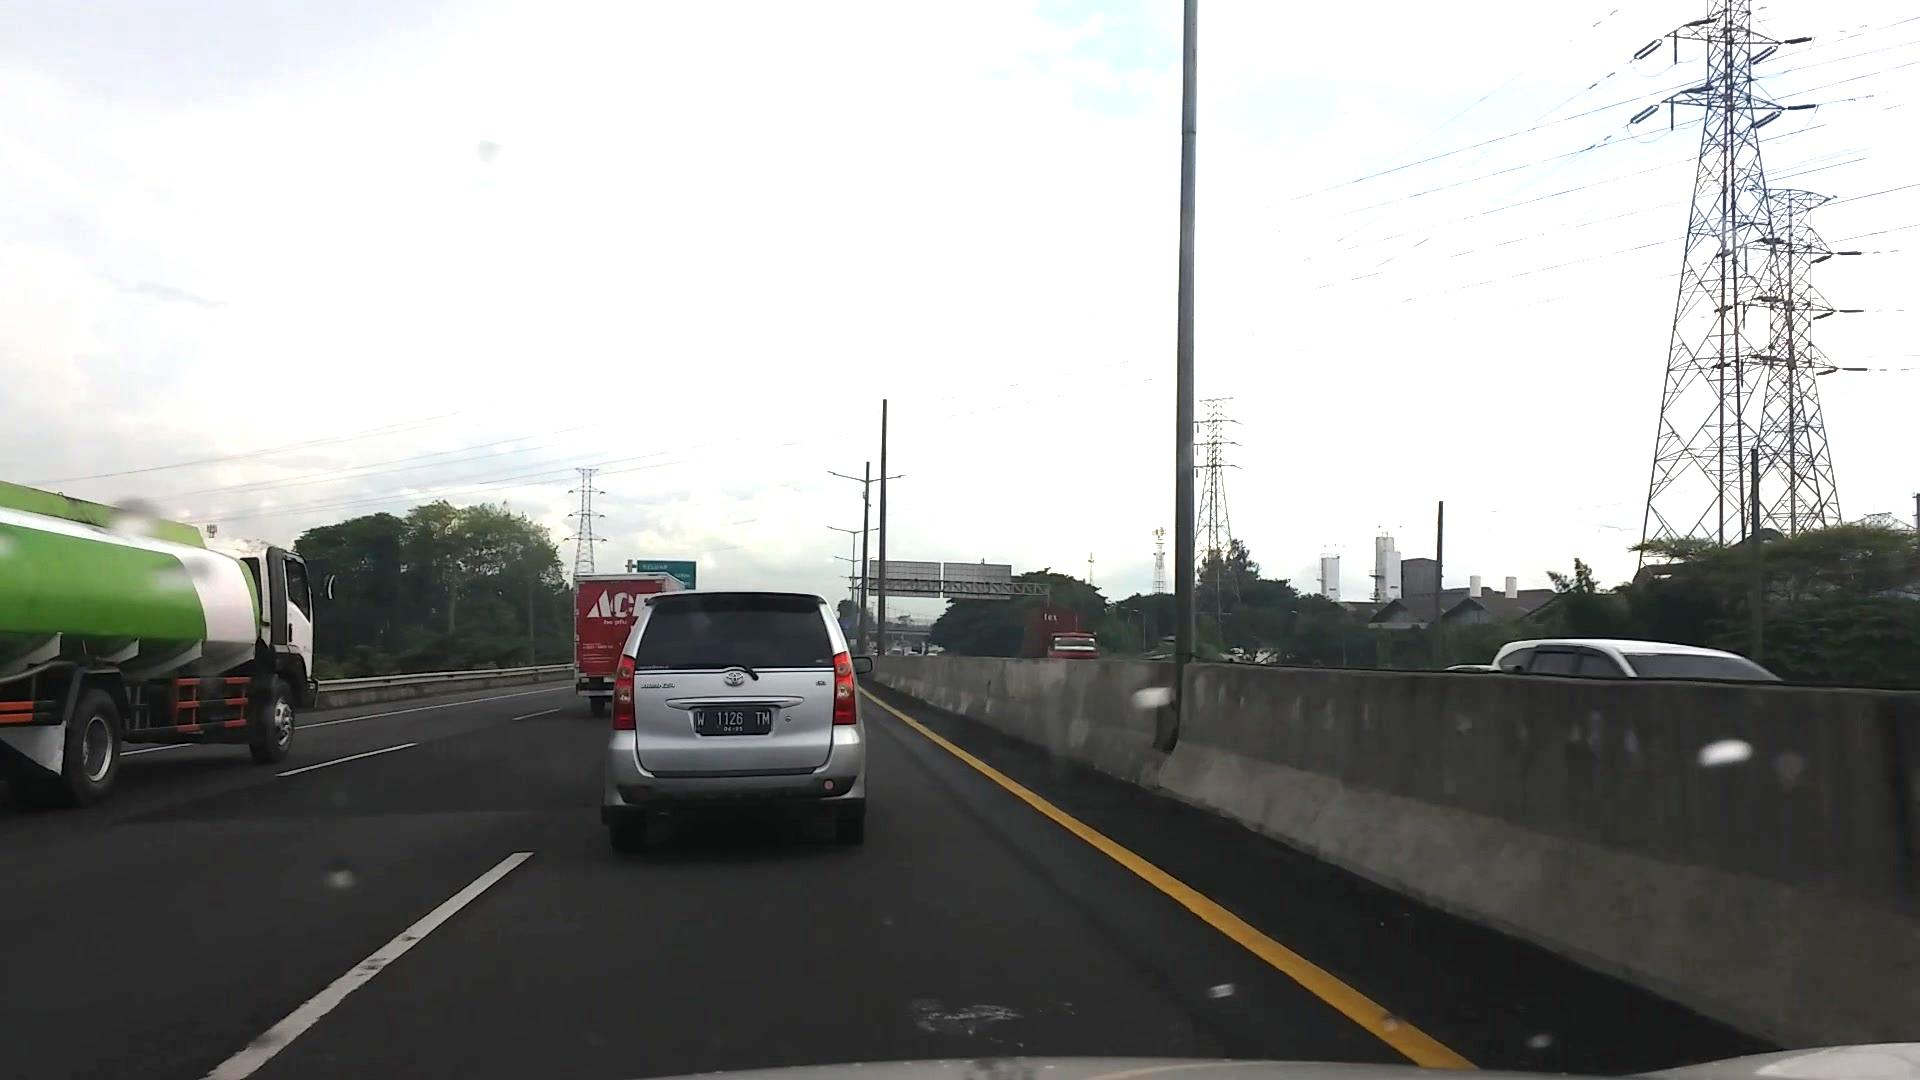plate_positive: (694, 708, 771, 735)
